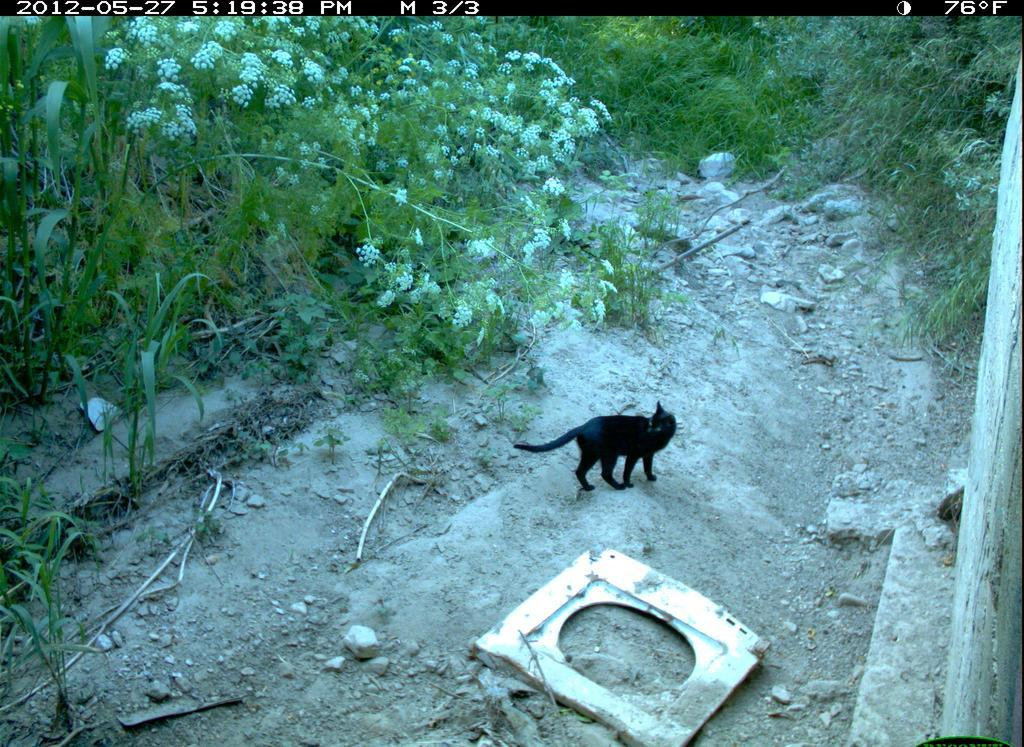cat: (509, 396, 683, 509)
